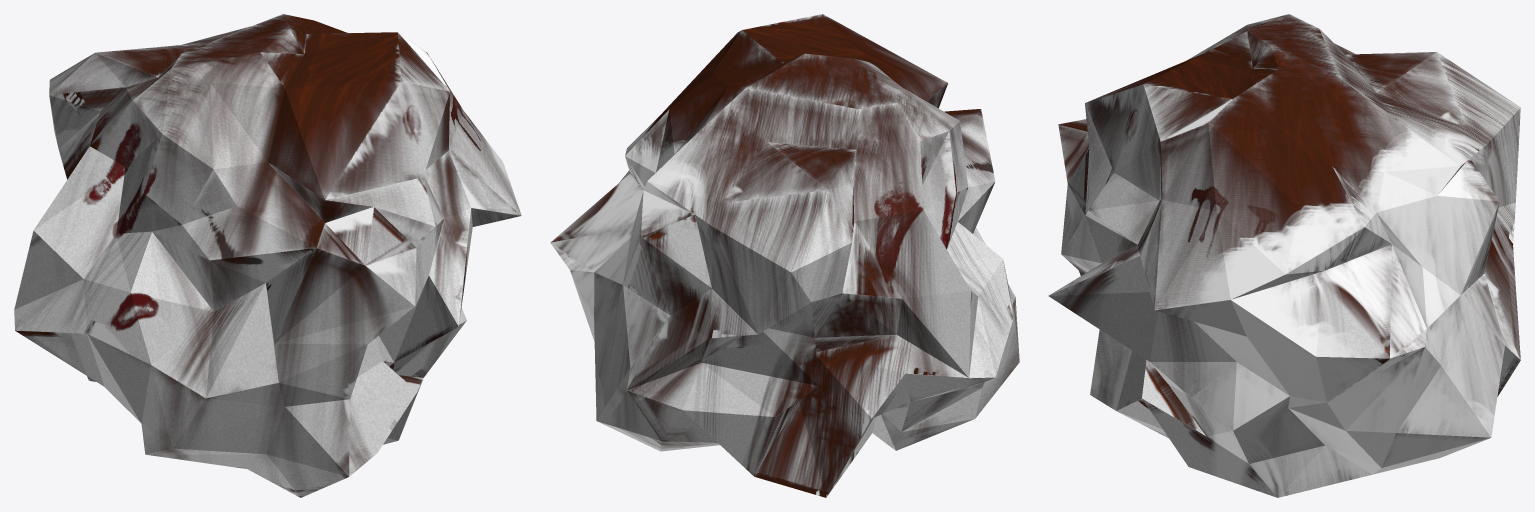
Rendered from CrumpledPaperBloody.fbx.
3 renders of one model, left to right at view 1: azimuth 30°, elevation 25°; view 2: azimuth 150°, elevation 25°; view 3: azimuth 270°, elevation 25°, orthographic. The views are drawn at different scales.
Parts seen in each view (by area): view 1: Crumpled Paper; view 2: Crumpled Paper; view 3: Crumpled Paper.
Boxes of the visible parts, bbox=[...] form: Crumpled Paper: bbox=[14, 14, 521, 497]; Crumpled Paper: bbox=[550, 14, 1019, 497]; Crumpled Paper: bbox=[1048, 14, 1520, 497].
Bounding box in the file's own units: 5.72 × 5.13 × 5.24.
1 material, 1 textured.
